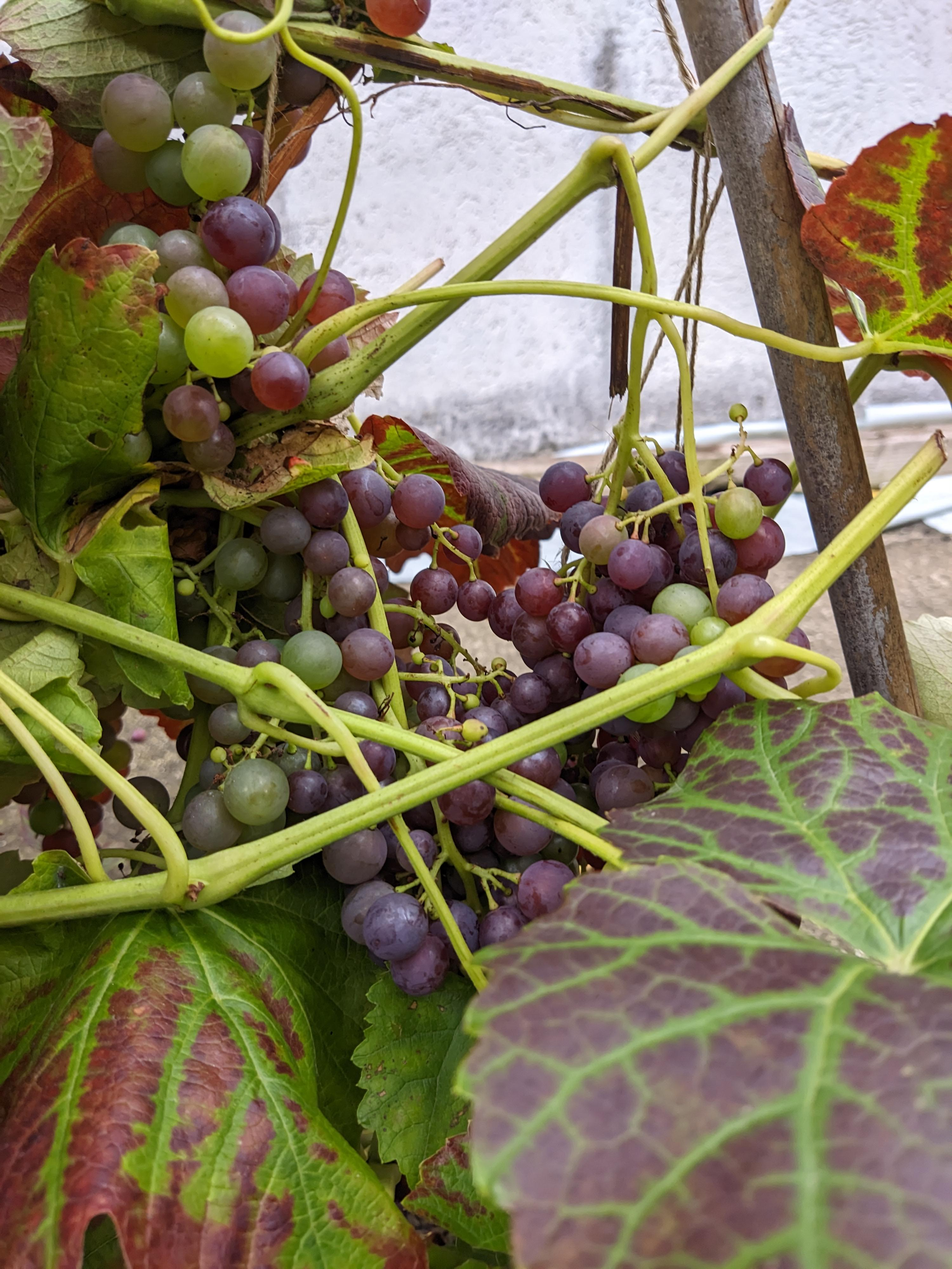Grape Unripe: (174, 469, 575, 997), (487, 405, 799, 815), (89, 7, 355, 474)
